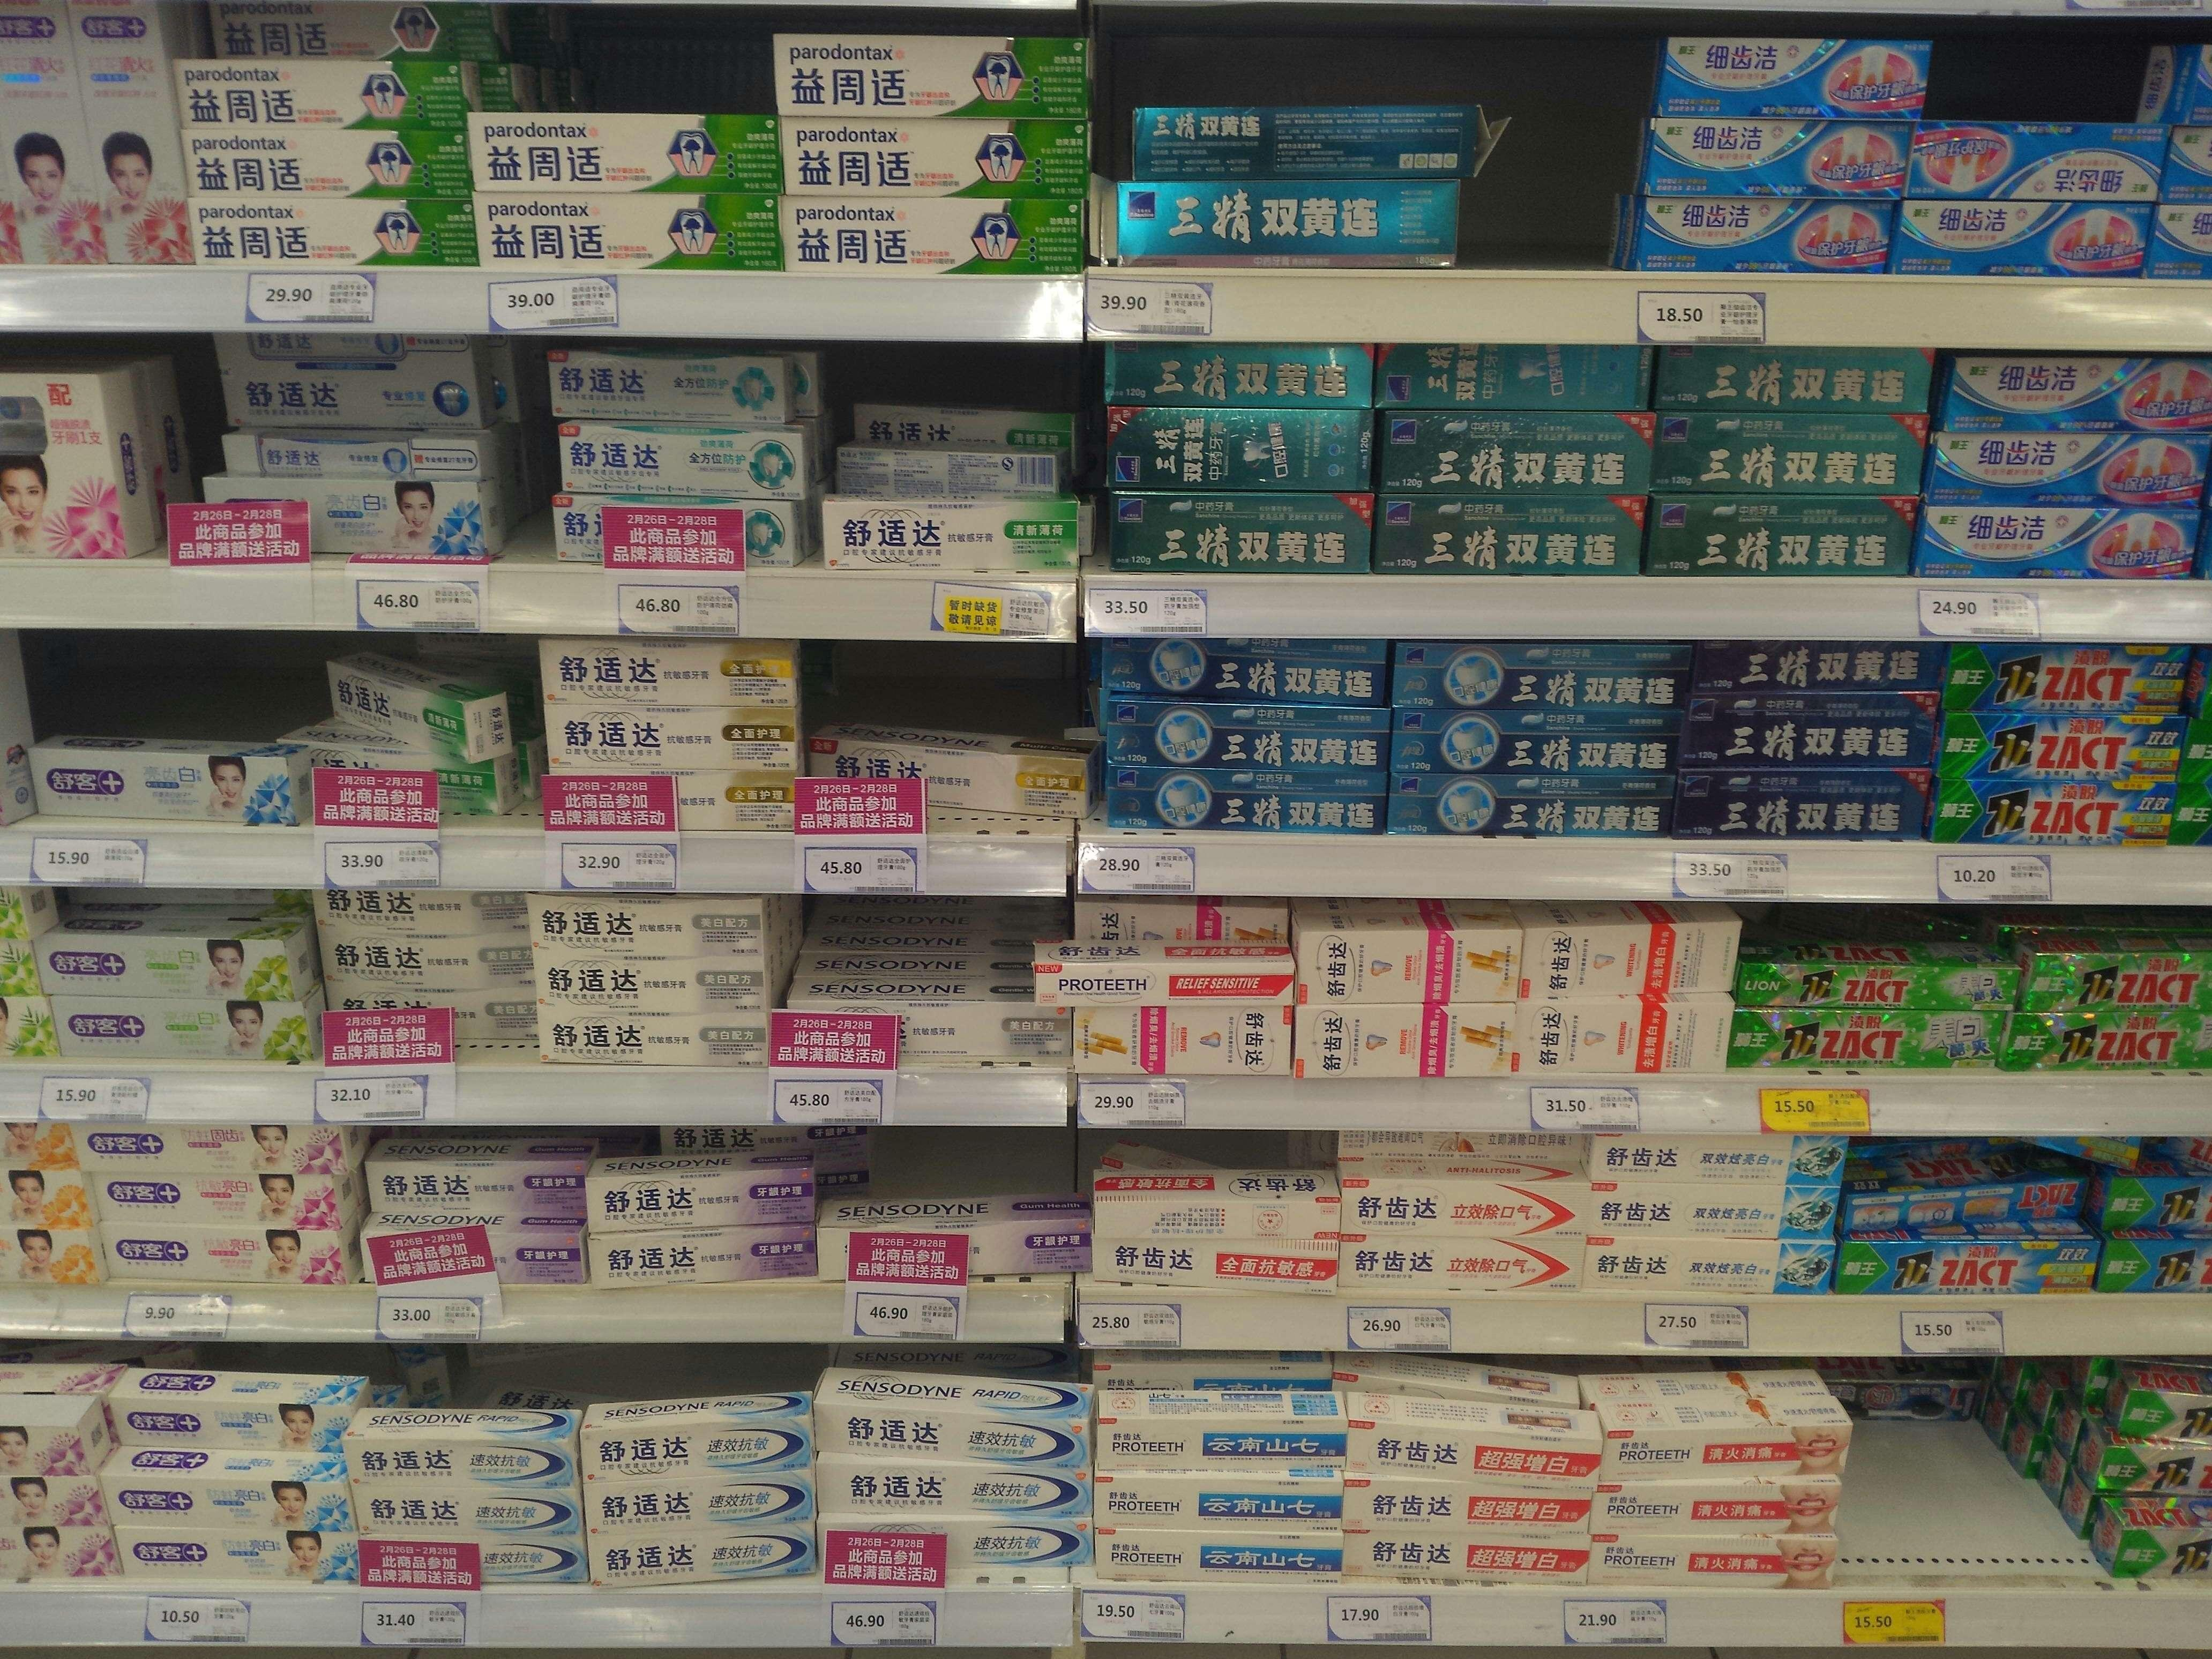empty: (1505, 58, 1620, 261)
misalignment: (834, 397, 1082, 563), (289, 667, 531, 823), (1832, 1361, 2000, 1439)
